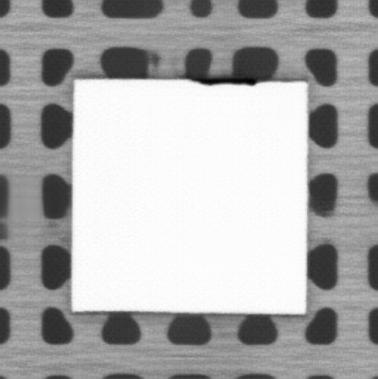DIE_BROKEN: (188, 75, 260, 86)
